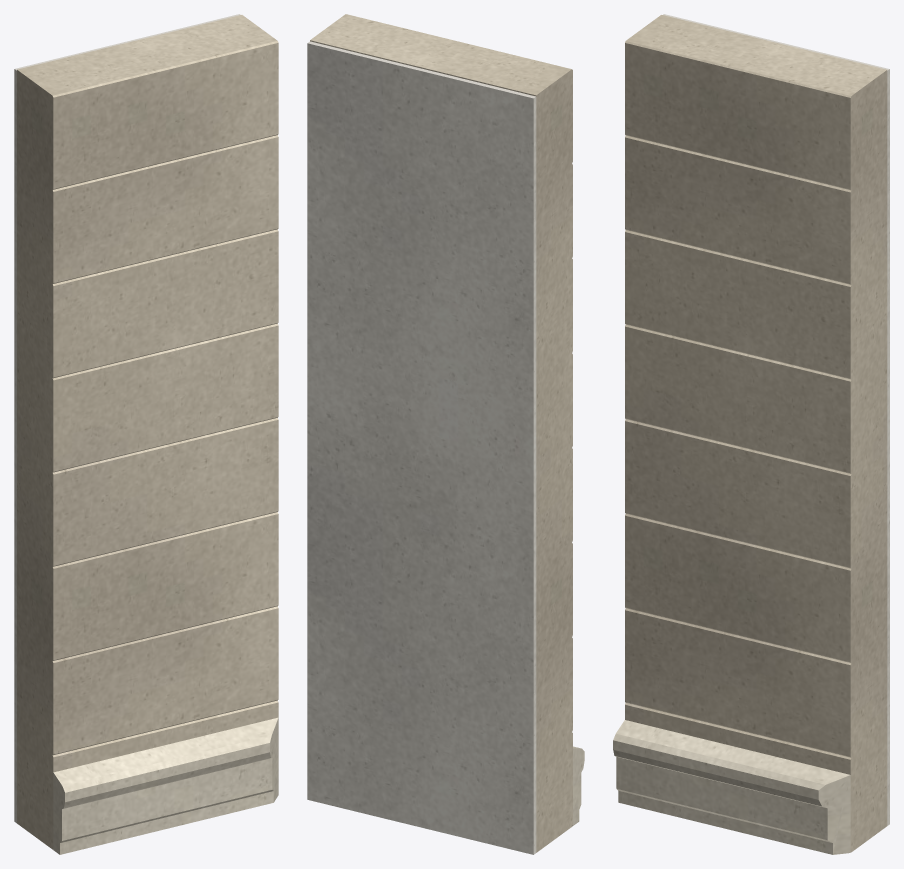
Rendered from pv_side_u1_r.glb.
3 renders of one model, left to right at view 1: azimuth 30°, elevation 25°; view 2: azimuth 150°, elevation 25°; view 3: azimuth 330°, elevation 25°, orthographic.
Parts seen in each view (by area): view 1: pv_side_u1_r_ashlar, pv_side_u1_r_trim, pv_side_u1_r_plaster; view 2: pv_side_u1_r_plaster, pv_side_u1_r_ashlar, pv_side_u1_r_trim; view 3: pv_side_u1_r_ashlar, pv_side_u1_r_trim, pv_side_u1_r_plaster.
Boxes of the visible parts, <box> form: pv_side_u1_r_ashlar: <box>17,15,278,849</box>; pv_side_u1_r_trim: <box>53,717,278,854</box>; pv_side_u1_r_plaster: <box>14,14,240,823</box>; pv_side_u1_r_plaster: <box>307,41,536,854</box>; pv_side_u1_r_ashlar: <box>310,14,572,852</box>; pv_side_u1_r_trim: <box>572,746,584,826</box>; pv_side_u1_r_ashlar: <box>625,15,887,852</box>; pv_side_u1_r_trim: <box>613,720,850,854</box>; pv_side_u1_r_plaster: <box>663,14,889,825</box>.
Size of the model in its own units: 1 by 3.2 by 0.39.
3 materials, 3 textured.
